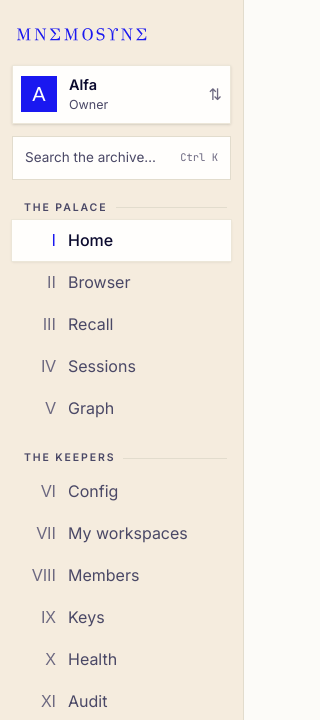
Scenario: APP-044 a failed list is asked for again when the menu is opened again
The width and height of the screenshot is (320, 720).
Later steps or results of the test are not shown.
Click the button named "Switch workspace" at [122, 94], box [12,65,231,124]
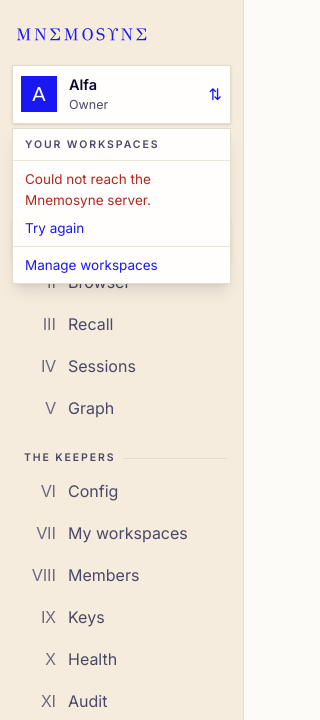
Result: the message "Could not reach the Mnemosyne server." is shown at [25,171,151,208]
